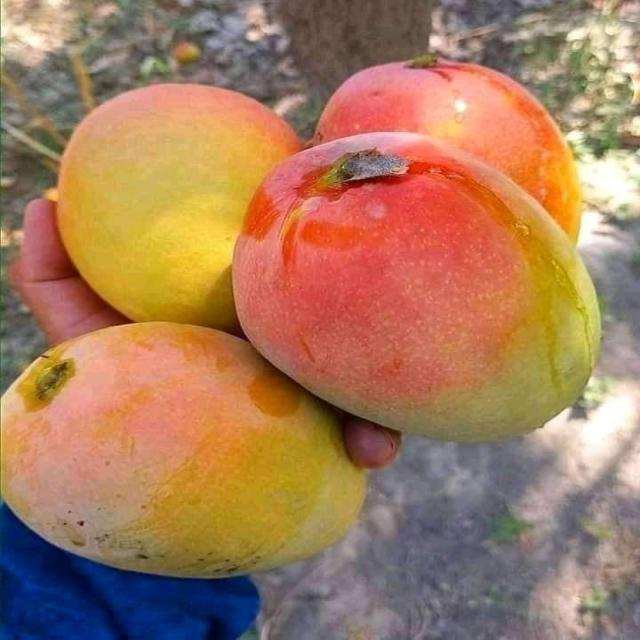mango: (234, 133, 599, 440), (2, 323, 365, 577), (58, 84, 299, 331), (315, 56, 582, 240)
